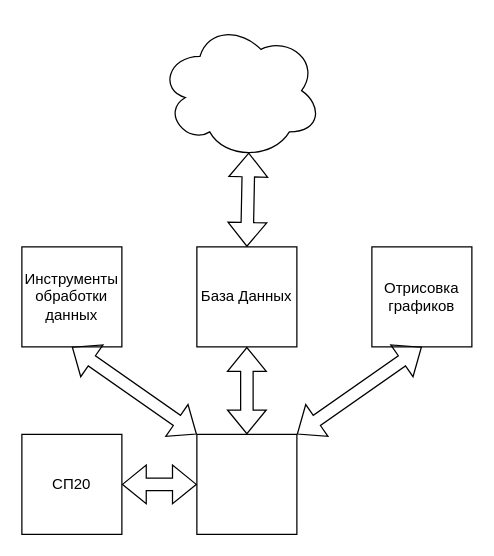
The diagram is 494 pixels wide and 556 high, and some of its shapes have lost their labels. Each missing label, with the box of its shape:
База Данных на сервере: (158, 21, 322, 159)
Вкладки: (196, 433, 297, 534)
